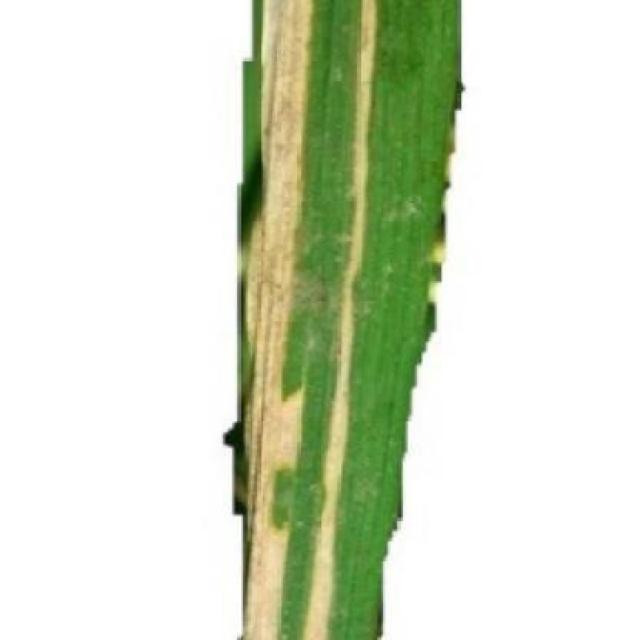Brown_Spot: (218, 0, 470, 640)
